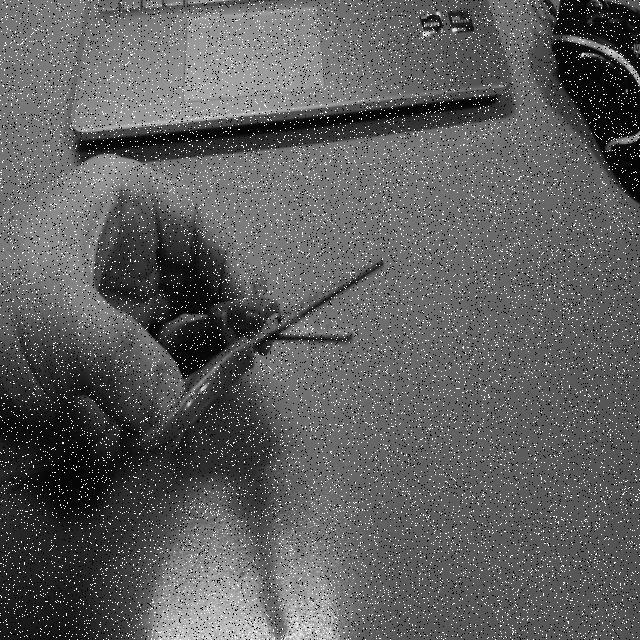scissors: (114, 243, 390, 466)
